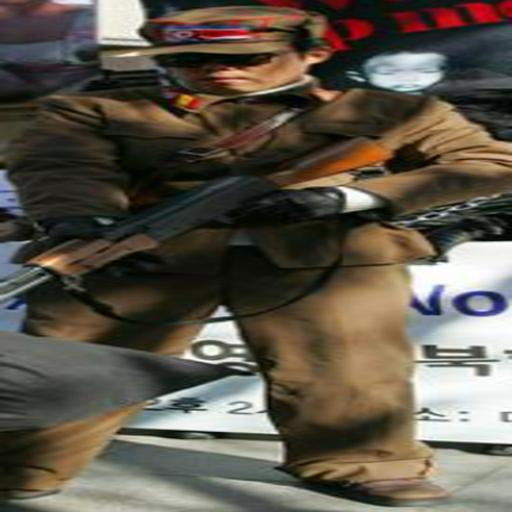north army: (45, 1, 436, 499)
